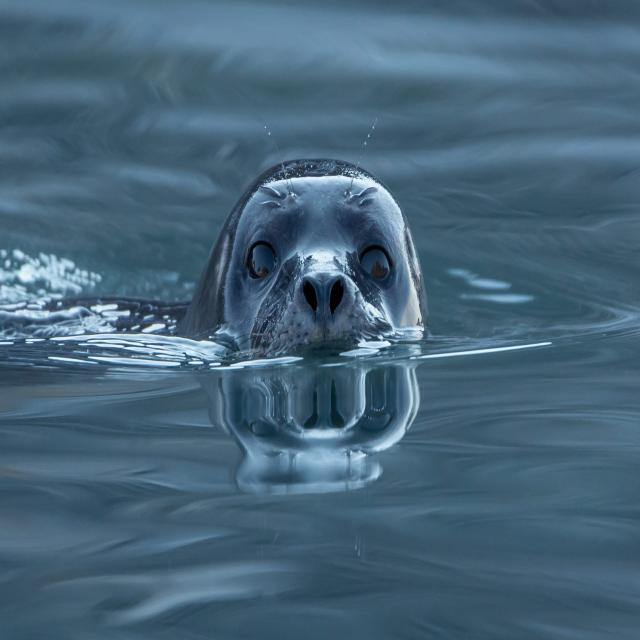WaterDog: (167, 162, 431, 362)
